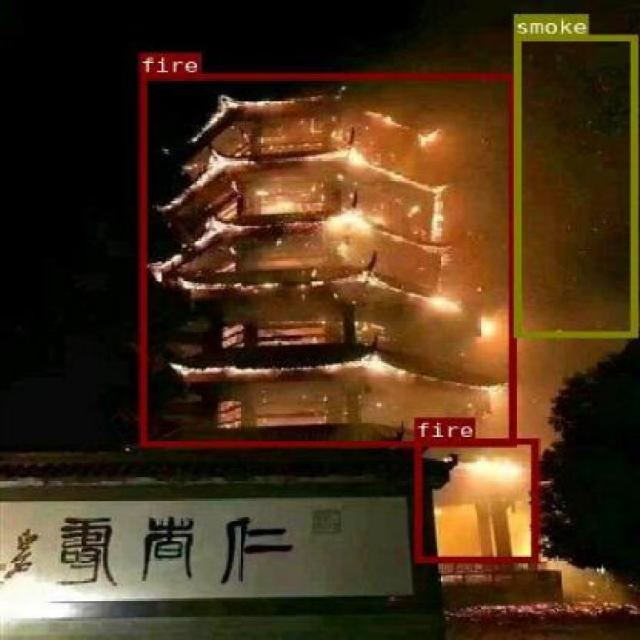fire: (138, 72, 514, 446), (413, 436, 538, 562)
smoke: (512, 34, 636, 337)
